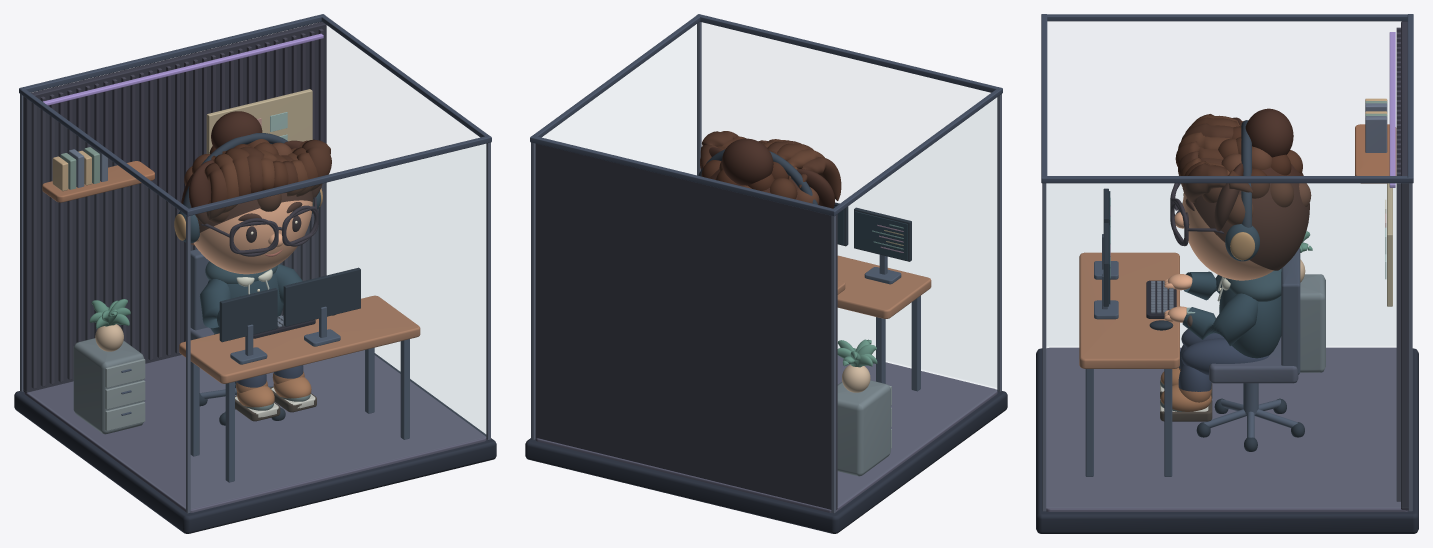
The model's file is wardrobe.glb.
3 renders of one model, left to right at view 1: azimuth 30°, elevation 25°; view 2: azimuth 150°, elevation 25°; view 3: azimuth 270°, elevation 25°, orthographic. The views are drawn at different scales.
Parts seen in each view (by area): view 1: Floor, Rear acoustic wall, Acoustic rib (×20), Plinth, Walnut desktop, Monitor housing (×2), Upper lintel (×2), Corner mullion (×3), Face and jaw, Drawer cabinet, Steel desk leg (×4), Upper side rail (×2) (+19 smaller); view 2: Rear acoustic wall, Plinth, Floor, Corner mullion (×4), Upper lintel (×2), Drawer cabinet, Walnut desktop, Upper side rail (×2), Display, Top bun, Steel desk leg (×2), Swept fringe 00 (+4 smaller); view 3: Floor, Plinth, Walnut desktop, Upper side rail (×2), Sculpted hair cap, Rear acoustic wall, Corner mullion (×2), Bent hoodie sleeve (×2), Drawer cabinet, Face and jaw, Upper lintel (×2), Backrest (+26 smaller).
Boxes of the visible parts, box(x1,y1,x2,y2) form: Floor: box(24, 350, 486, 512); Rear acoustic wall: box(23, 22, 326, 393); Acoustic rib (×20): box(31, 28, 323, 388); Plinth: box(14, 353, 496, 533); Walnut desktop: box(179, 295, 420, 383); Monitor housing (×2): box(219, 267, 360, 342); Upper lintel (×2): box(19, 14, 491, 216); Corner mullion (×3): box(20, 94, 490, 513); Face and jaw: box(194, 200, 312, 274); Drawer cabinet: box(73, 338, 144, 434); Steel desk leg (×4): box(190, 339, 409, 482); Upper side rail (×2): box(19, 16, 488, 215); Rear acoustic wall: box(535, 143, 837, 509); Plinth: box(525, 390, 1007, 533); Floor: box(535, 355, 997, 512); Corner mullion (×4): box(531, 22, 1001, 513); Upper lintel (×2): box(530, 14, 1002, 216); Drawer cabinet: box(837, 380, 890, 476); Walnut desktop: box(837, 255, 931, 318); Upper side rail (×2): box(533, 16, 1002, 215); Display: box(854, 211, 907, 260); Top bun: box(722, 138, 773, 185); Steel desk leg (×2): box(876, 296, 920, 391); Swept fringe 00: box(798, 157, 841, 200); Floor: box(1046, 347, 1408, 511); Plinth: box(1036, 348, 1418, 533); Walnut desktop: box(1079, 252, 1179, 368); Upper side rail (×2): box(1042, 14, 1412, 183); Sculpted hair cap: box(1193, 164, 1309, 270); Rear acoustic wall: box(1401, 21, 1408, 510); Corner mullion (×2): box(1042, 183, 1412, 511); Bent hoodie sleeve (×2): box(1182, 271, 1258, 345); Drawer cabinet: box(1300, 274, 1325, 372); Face and jaw: box(1182, 193, 1273, 280); Upper lintel (×2): box(1041, 14, 1413, 182); Backrest: box(1281, 248, 1300, 374).
Size of the model in its own units: 2.9 by 2.85 by 2.78.
